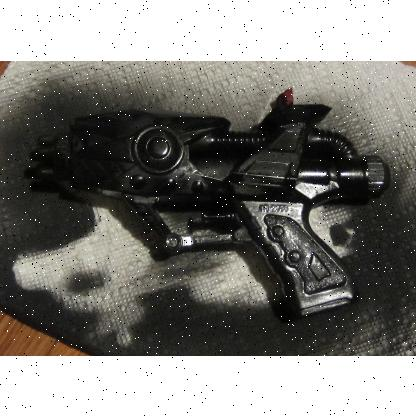gun: (28, 86, 390, 320)
